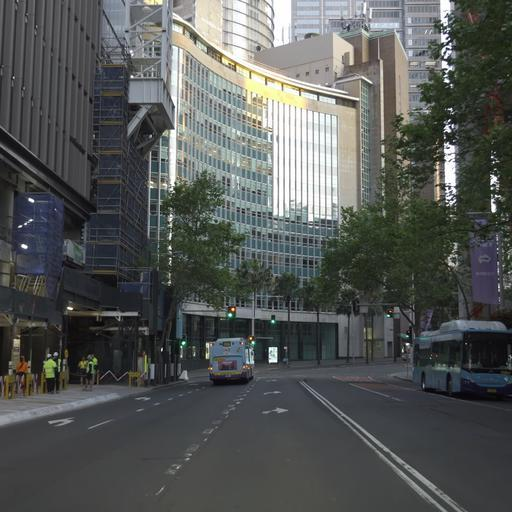Street light: (226, 305, 236, 319), (247, 335, 255, 345), (179, 338, 187, 347), (385, 308, 392, 318), (269, 314, 275, 324)
